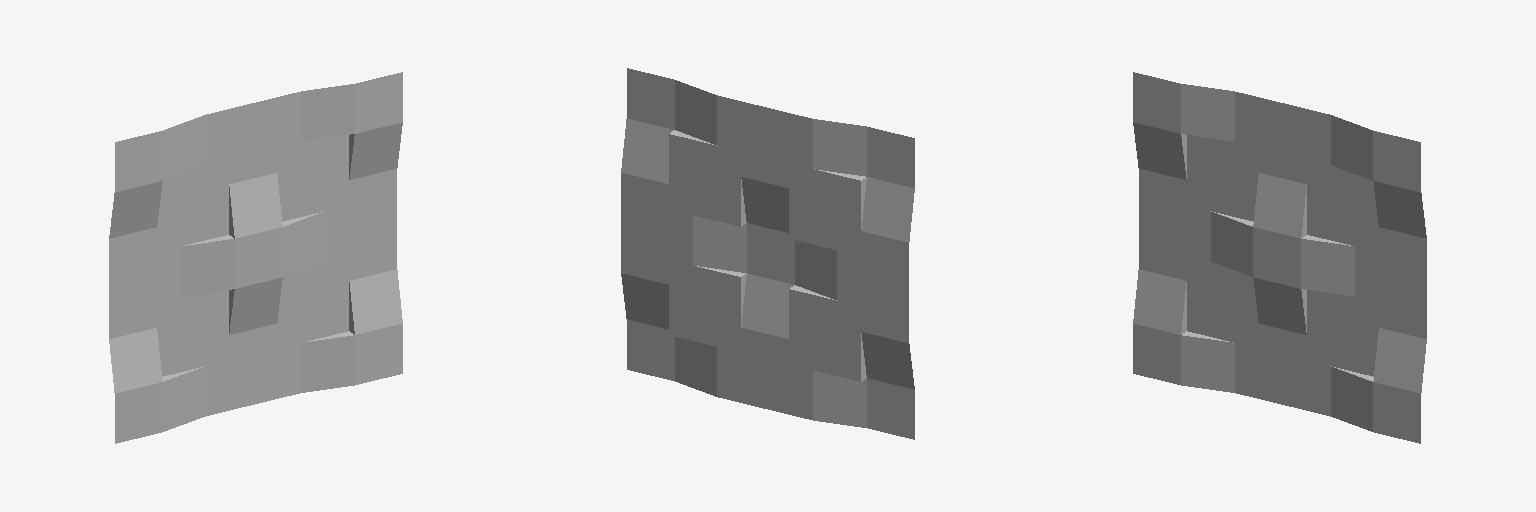
Rendered from tag1_2.obj.
3 renders of one model, left to right at view 1: azimuth 30°, elevation 25°; view 2: azimuth 150°, elevation 25°; view 3: azimuth 330°, elevation 25°, orthographic.
Parts seen in each view (by area): view 1: Grid; view 2: Grid; view 3: Grid.
Part boxes in pixels (x1,y1,x2,y2): Grid: (109,72,402,443); Grid: (621,68,914,439); Grid: (1133,72,1426,443).
Size of the model in its own units: 30 by 30 by 1.